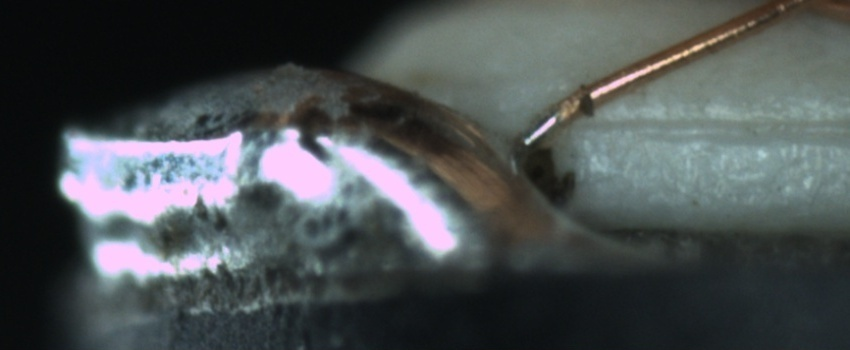CL: (755, 0, 839, 20)
DL: (604, 90, 845, 161)
TS: (521, 110, 564, 148)
